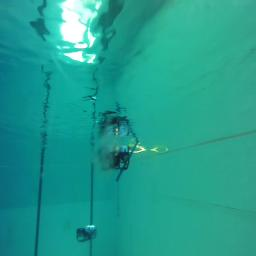front: (102, 145, 129, 170), (76, 225, 97, 242)
